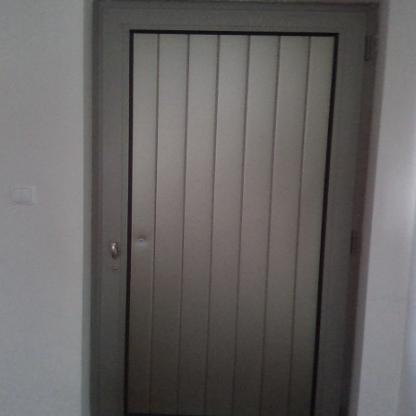door: (99, 8, 357, 416)
hinged: (351, 226, 364, 259), (362, 32, 374, 61)
knob: (109, 241, 121, 258)
